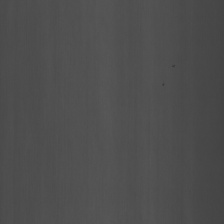inclusion: (158, 70, 167, 96), (169, 60, 179, 75)
